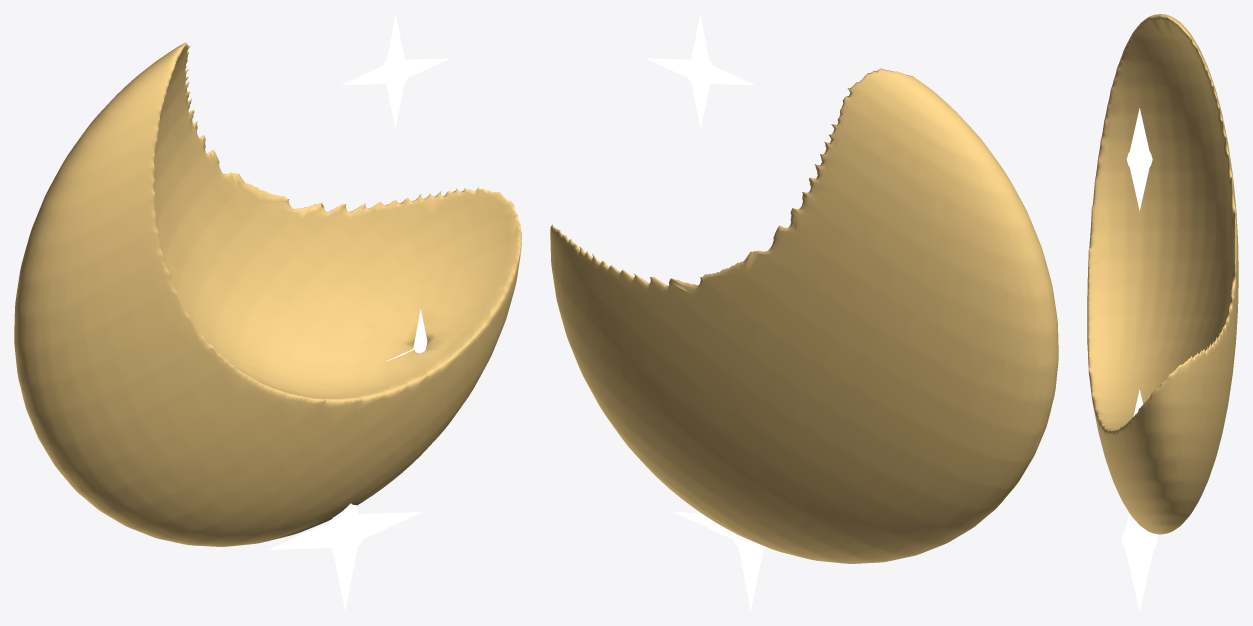
File: emb_lua.glb
The picture shows the model from 3 angles, left to right: view 1: azimuth 30°, elevation 25°; view 2: azimuth 150°, elevation 25°; view 3: azimuth 270°, elevation 25°; orthographic projection. The views are drawn at different scales.
Parts seen in each view (by area): view 1: emb_lua; view 2: emb_lua; view 3: emb_lua.
Part boxes in pixels (<box>): emb_lua: <box>14,15,521,610</box>; emb_lua: <box>550,14,1058,611</box>; emb_lua: <box>1087,14,1238,610</box>.
Size of the model in its own units: 0.0996 by 0.1123 by 0.0291.
